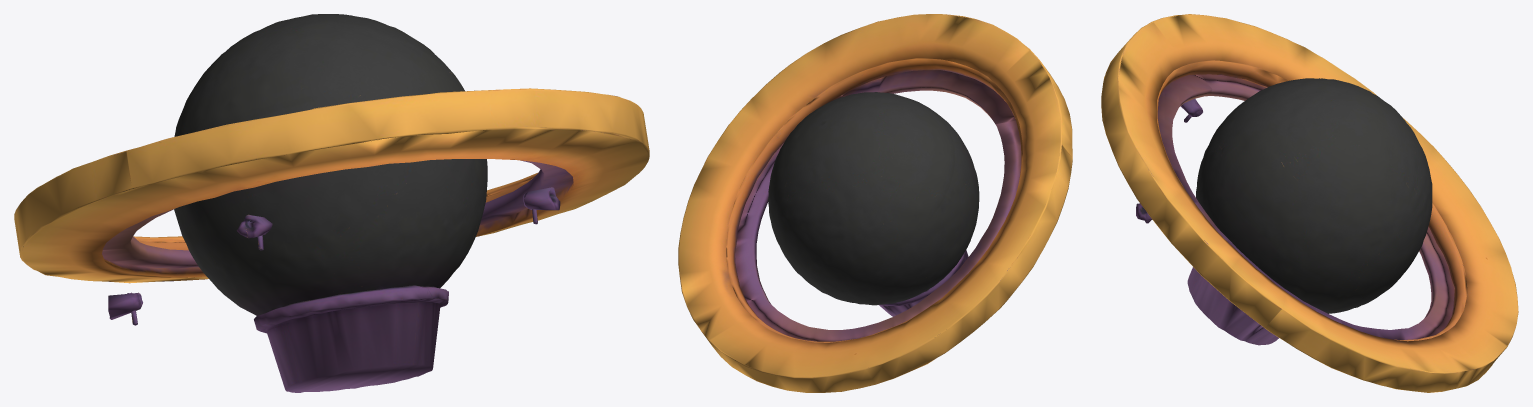
File: r33-blackhole.glb
The picture shows the model from 3 angles, left to right: view 1: azimuth 30°, elevation 25°; view 2: azimuth 150°, elevation 25°; view 3: azimuth 270°, elevation 25°; orthographic projection. The views are drawn at different scales.
Parts seen in each view (by area): view 1: tripo_node_15b3be58-3d39-4fd6-b084-ee1b538b81ec; view 2: tripo_node_15b3be58-3d39-4fd6-b084-ee1b538b81ec; view 3: tripo_node_15b3be58-3d39-4fd6-b084-ee1b538b81ec.
Part boxes in pixels (x1,y1,x2,y2): tripo_node_15b3be58-3d39-4fd6-b084-ee1b538b81ec: [14, 14, 649, 392]; tripo_node_15b3be58-3d39-4fd6-b084-ee1b538b81ec: [678, 14, 1072, 392]; tripo_node_15b3be58-3d39-4fd6-b084-ee1b538b81ec: [1101, 14, 1518, 392].
Size of the model in its own units: 0.998 by 0.6738 by 0.8965.
Materials: 1 (1 with a texture image).
